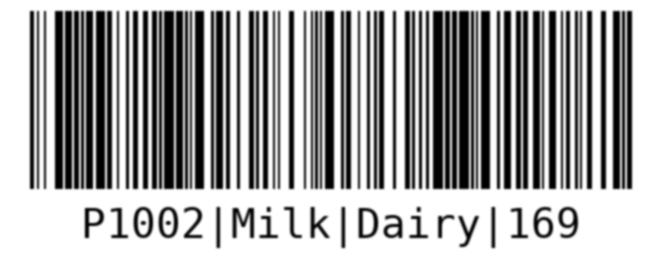milk: (24, 6, 645, 256)
